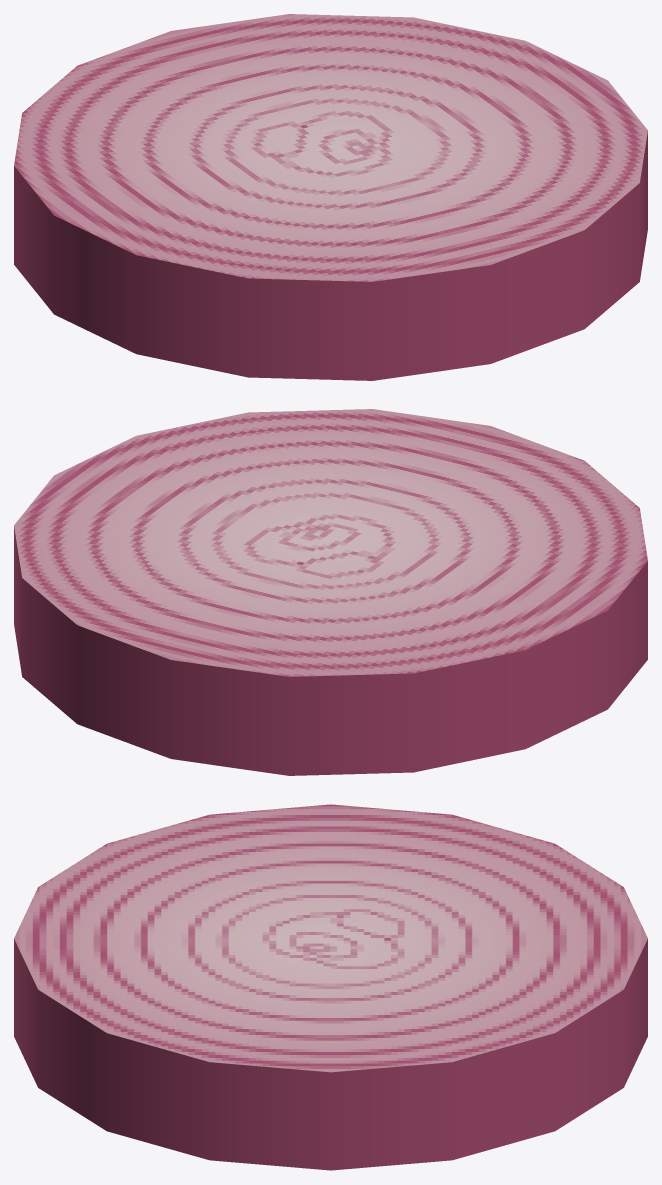
Rendered from Bun_Middle.fbx.
The picture shows the model from 3 angles, top to bottom: view 1: azimuth 30°, elevation 25°; view 2: azimuth 150°, elevation 25°; view 3: azimuth 270°, elevation 25°; orthographic projection.
Visible parts, largest first — view 1: Moving_Platform; view 2: Moving_Platform; view 3: Moving_Platform.
Part boxes in pixels (bbox=[...]): Moving_Platform: bbox=[14, 14, 647, 380]; Moving_Platform: bbox=[14, 409, 647, 775]; Moving_Platform: bbox=[14, 804, 647, 1170].
Size of the model in its own units: 5.13 by 0.8767 by 5.13.
